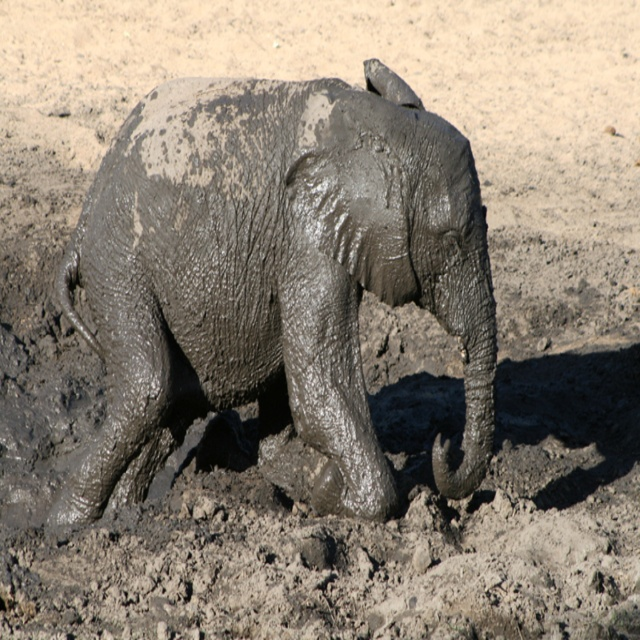Elephant: (26, 34, 491, 530)
